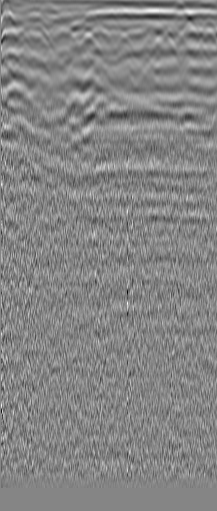오수: (24, 21, 54, 52)
우수: (169, 17, 201, 49)
